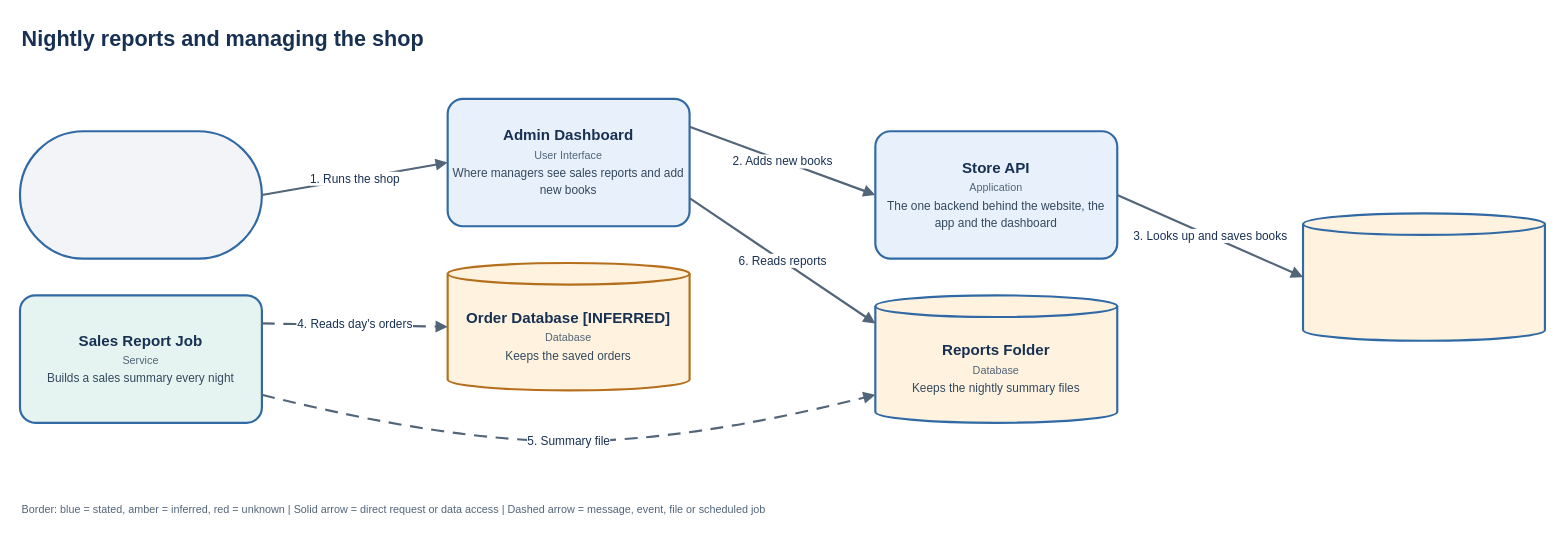
The diagram is 1564 pixels wide and 540 high, and some of its shapes have lost their labels. Each missing label, with the centre of its shape:
"Catalog Database Database Keeps the full list of books" belongs at (x=1423, y=276).
"Store Managers Actor Staff who run the shop" belongs at (x=140, y=194).
